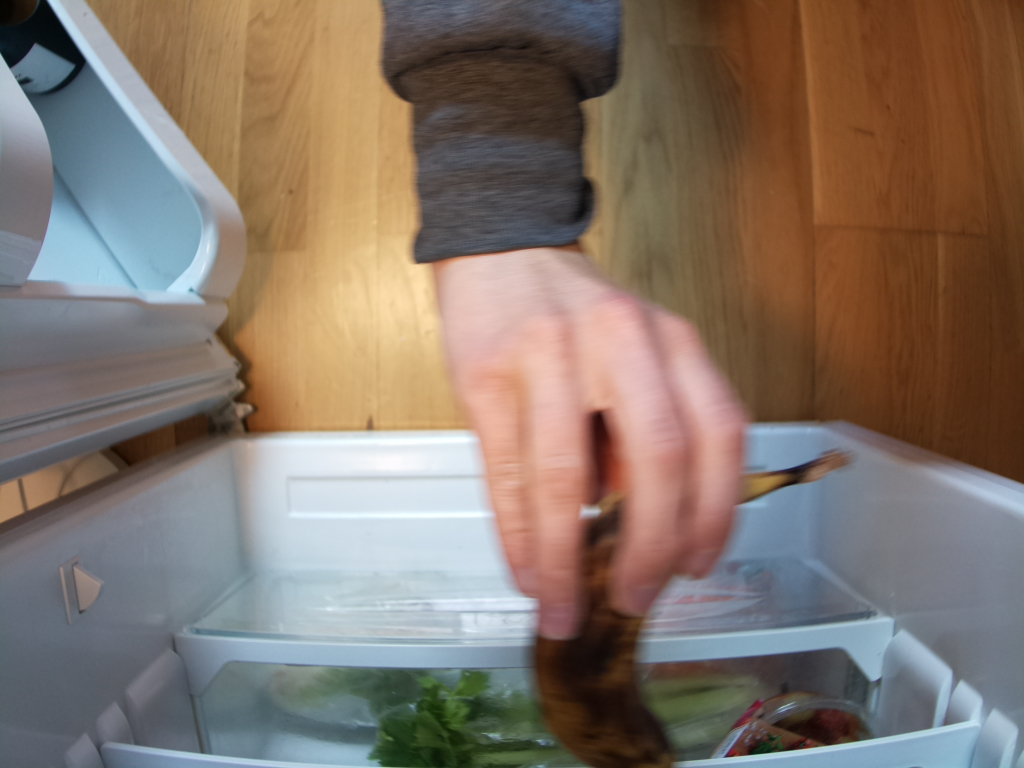banana-overripe: (529, 447, 861, 768)
